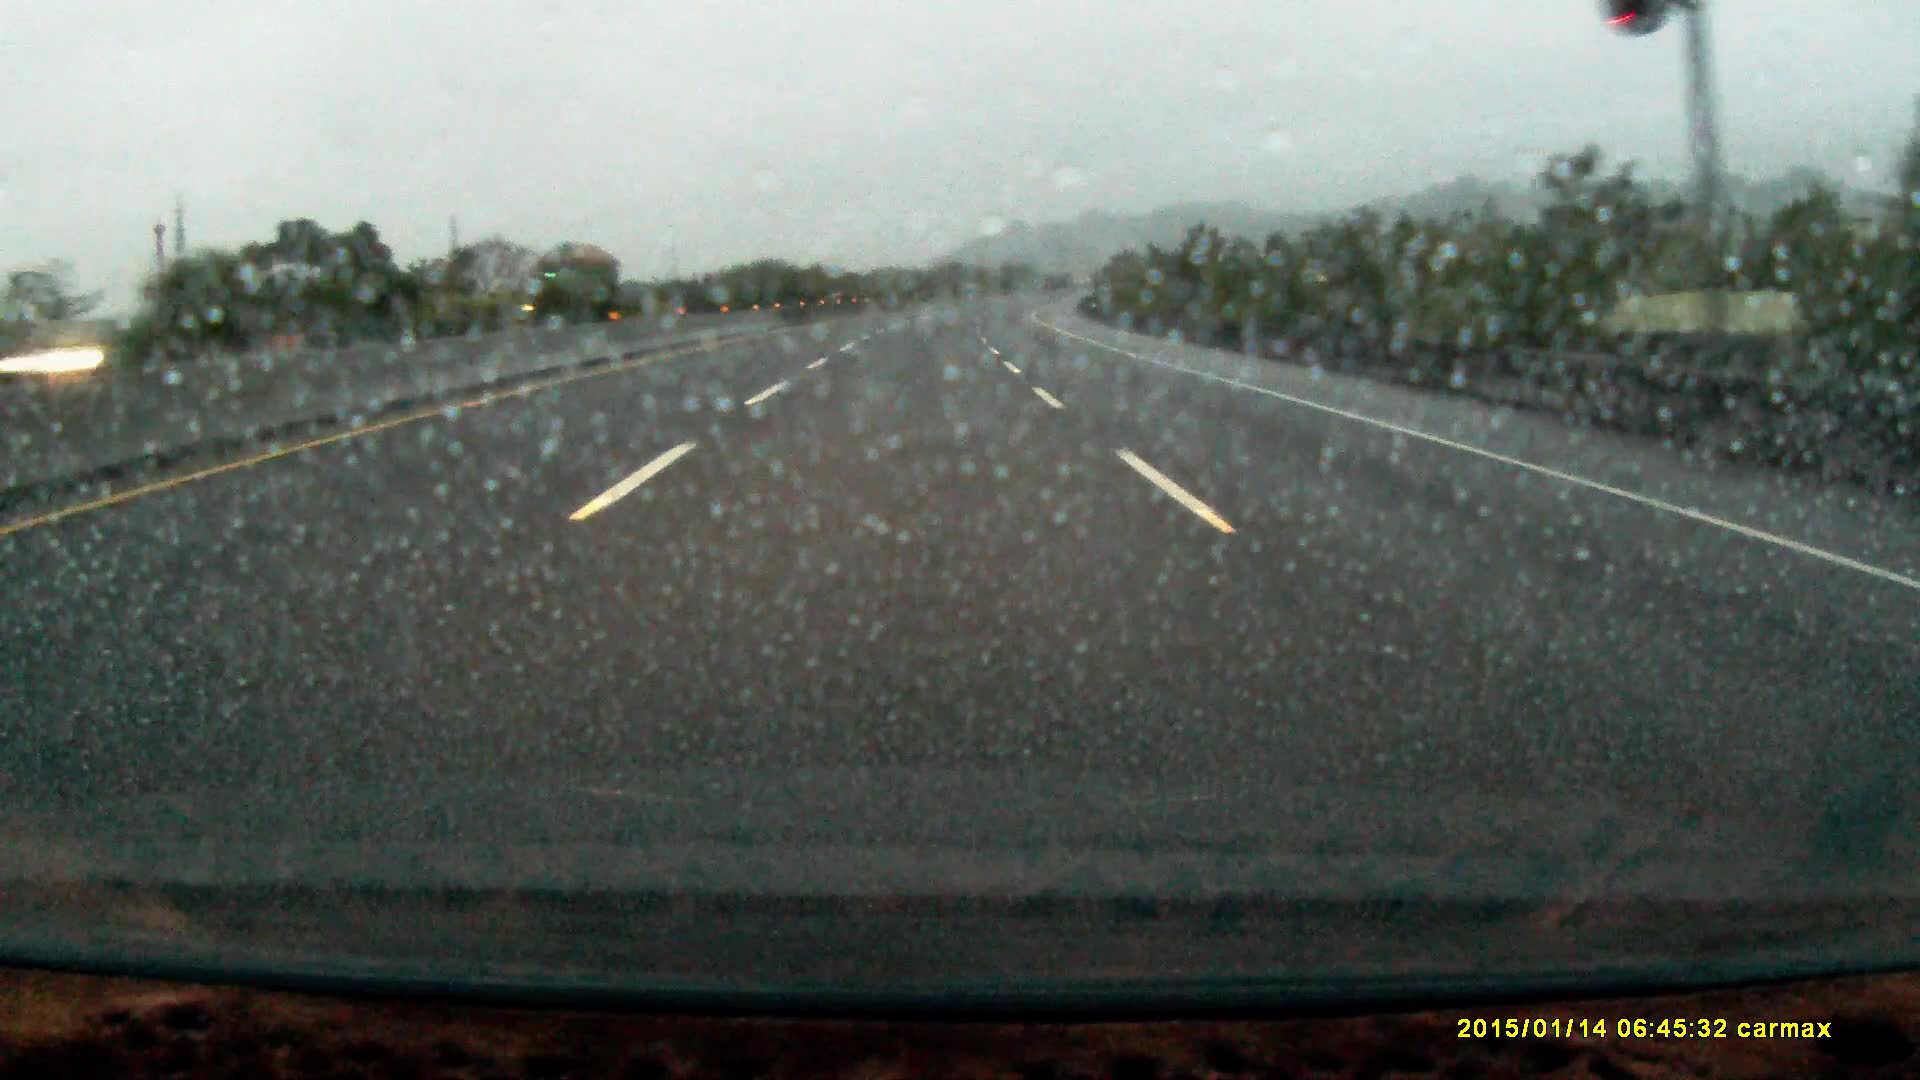vehicle: (522, 239, 622, 320)
